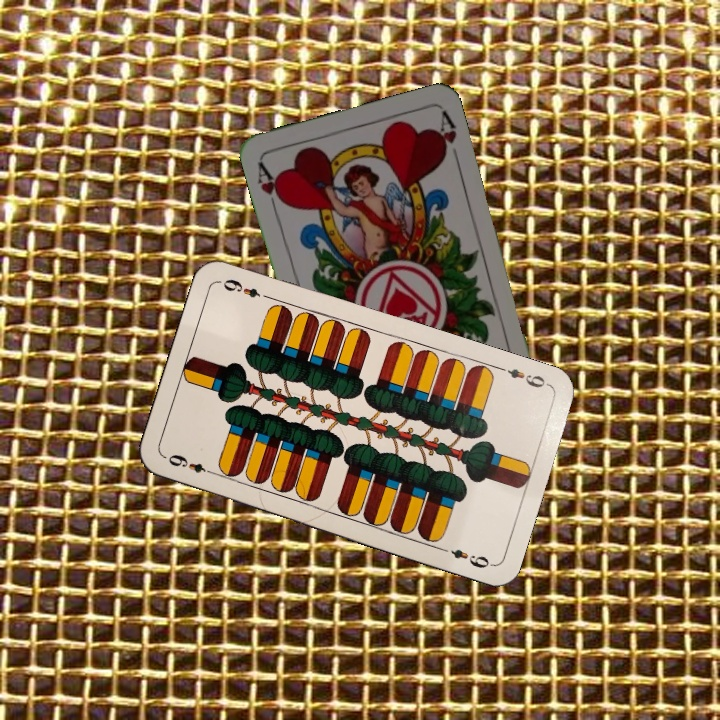E9: (494, 362, 552, 391), (161, 450, 219, 478)
HA: (253, 157, 288, 215)
